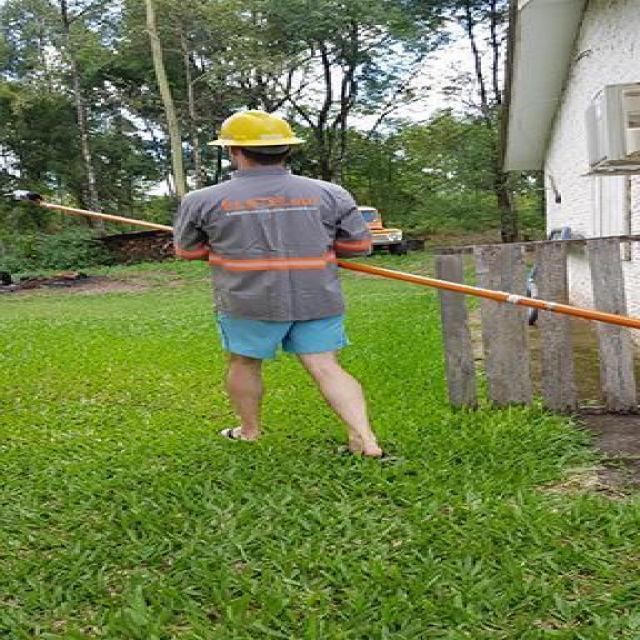hat: (202, 109, 307, 169)
